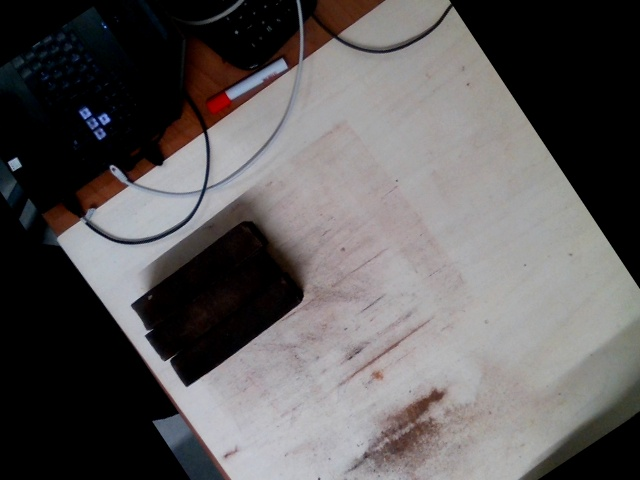brick-side: (129, 222, 261, 331), (167, 278, 299, 387), (146, 252, 278, 361)
